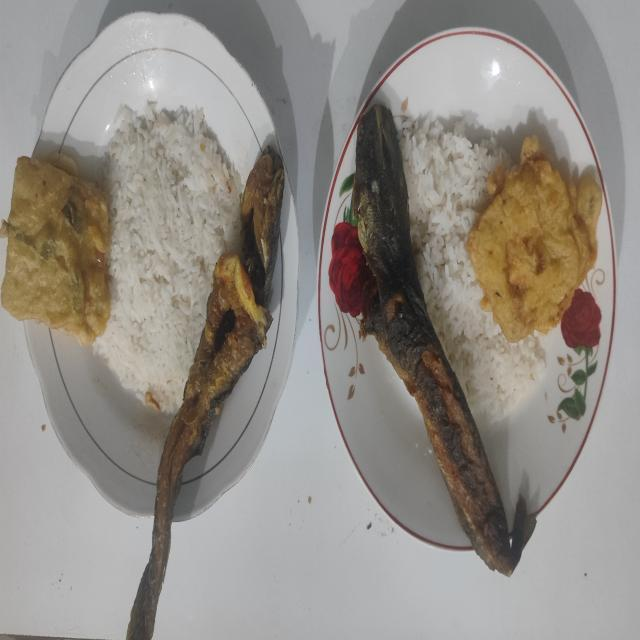nasi_putih: (395, 114, 545, 420), (95, 101, 242, 412)
